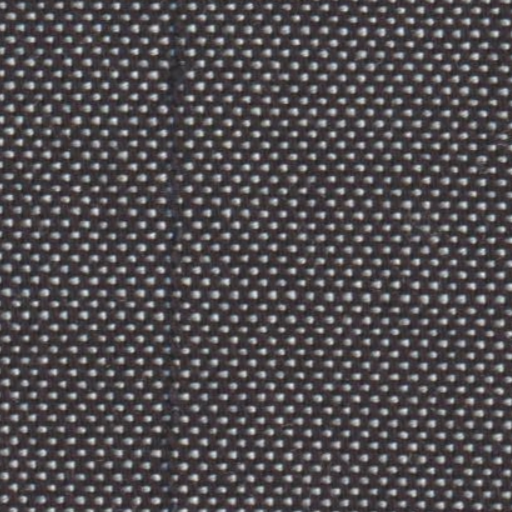TuoSha: (136, 8, 214, 496)
